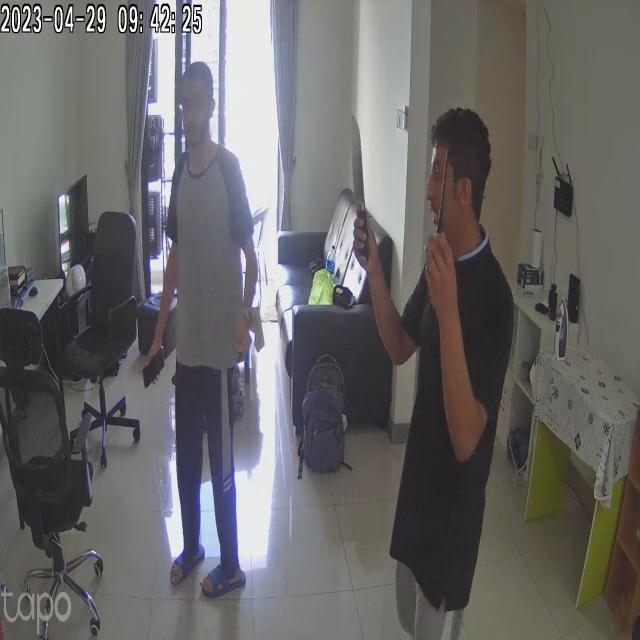Knife: (347, 108, 391, 264), (431, 150, 456, 248)
